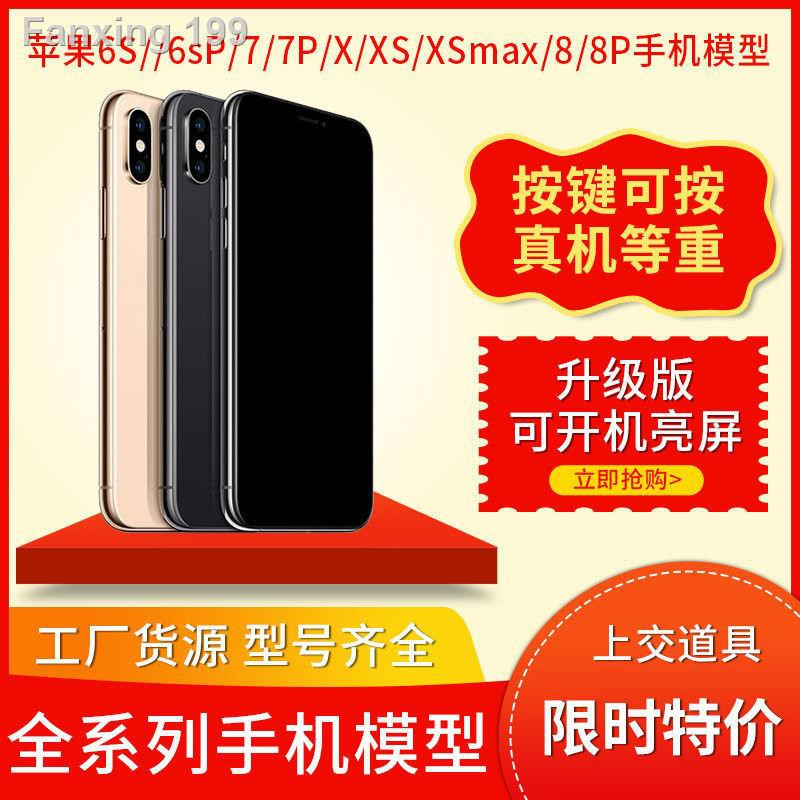Phone: (216, 88, 378, 534)
